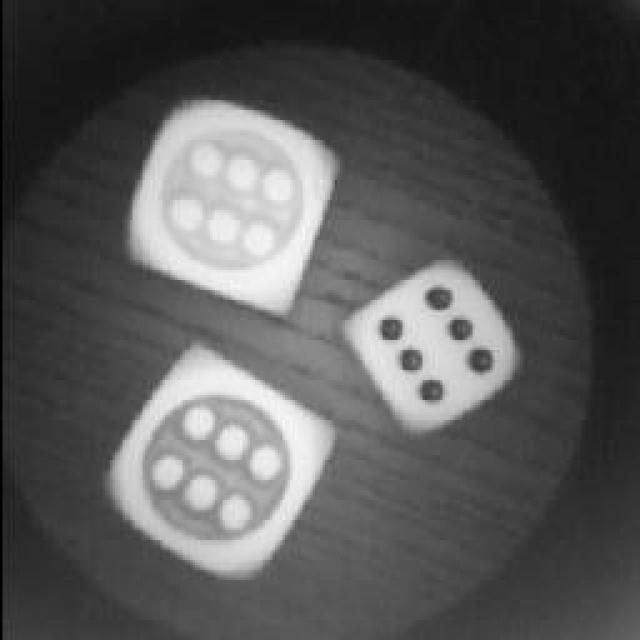dice_6: (102, 358, 332, 578), (115, 97, 337, 305), (355, 262, 520, 432)
